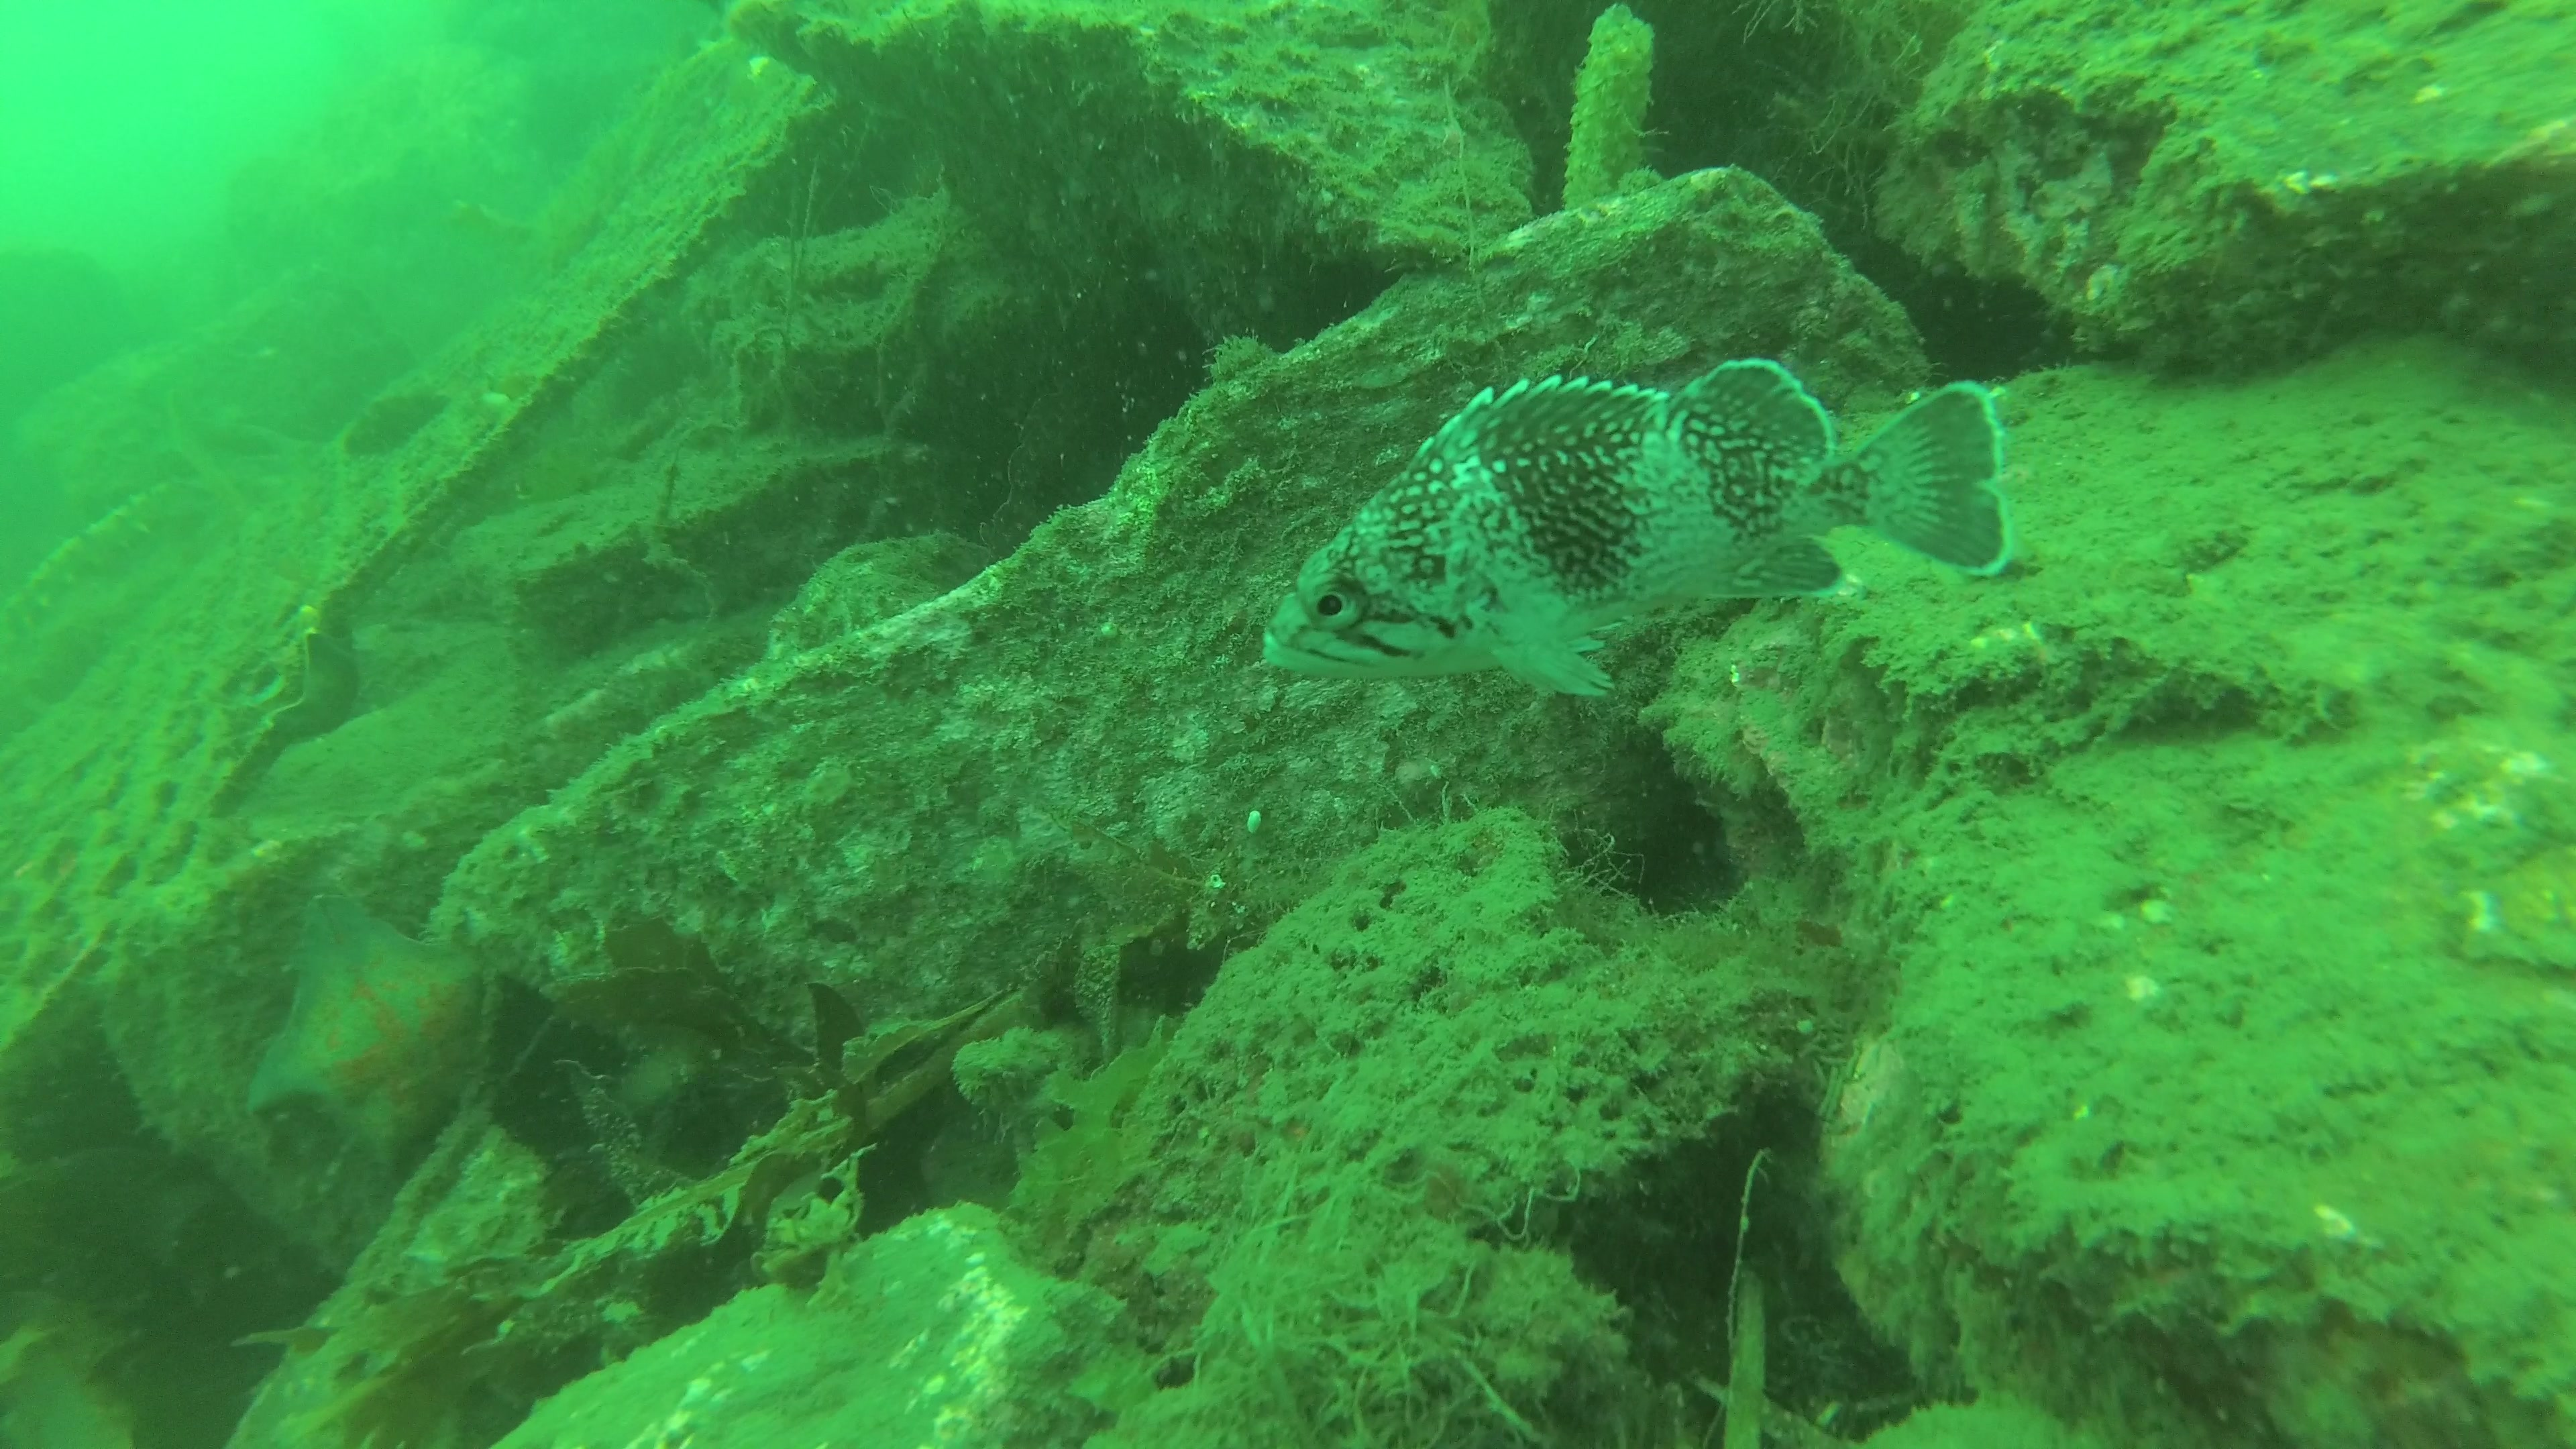starfish: (244, 885, 488, 1177)
